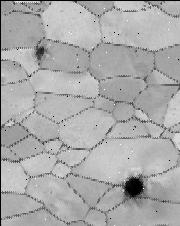good_void: (119, 170, 147, 204), (33, 44, 47, 67), (132, 124, 136, 129), (75, 65, 79, 69), (133, 49, 137, 53)
